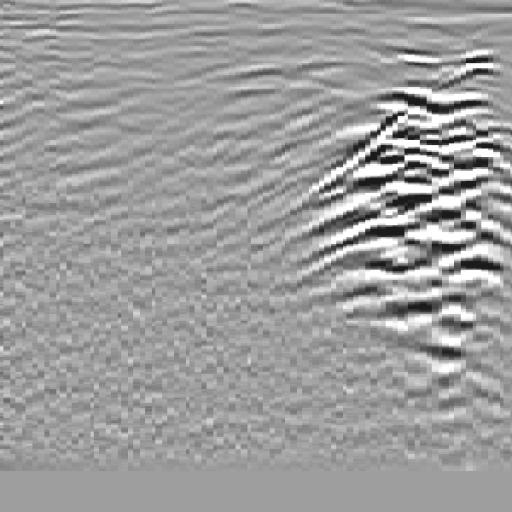metalic: (277, 32, 512, 416)
